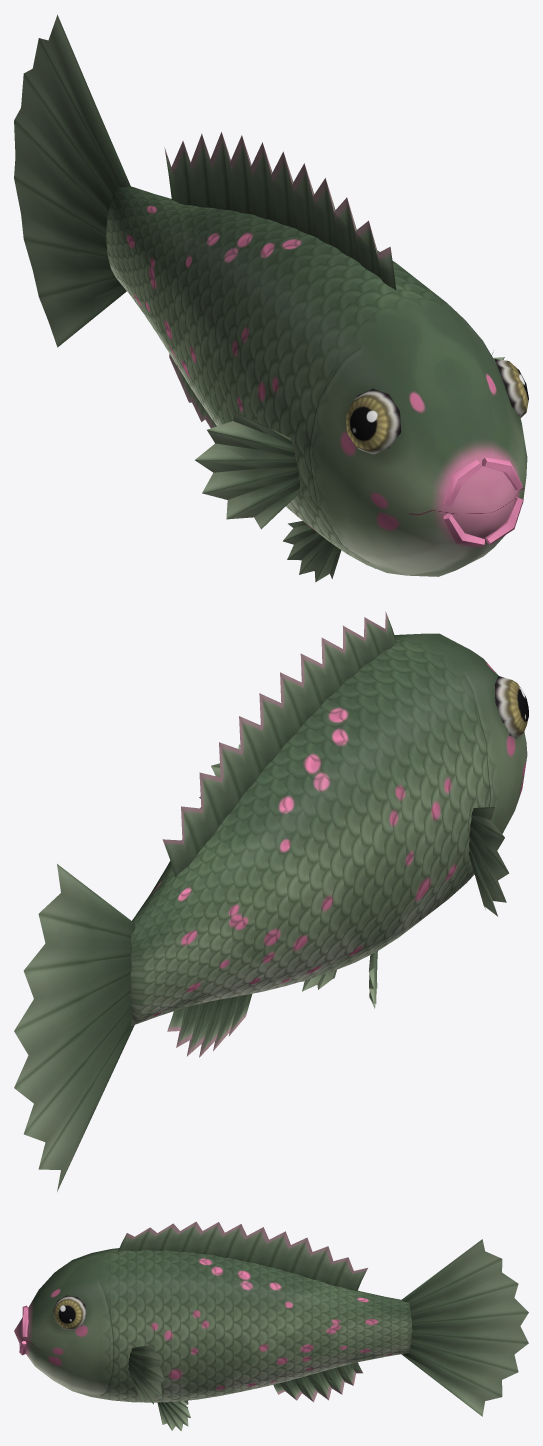
The model's file is thrift-wrasse.glb.
The picture shows the model from 3 angles, top to bottom: view 1: azimuth 30°, elevation 25°; view 2: azimuth 150°, elevation 25°; view 3: azimuth 270°, elevation 25°; orthographic projection. The views are drawn at different scales.
Visible parts, largest first — view 1: thrift-wrasse; view 2: thrift-wrasse; view 3: thrift-wrasse.
Boxes of the visible parts, box(x1,y1,x2,y2) form: thrift-wrasse: box(14, 14, 528, 582); thrift-wrasse: box(14, 611, 528, 1191); thrift-wrasse: box(14, 1221, 528, 1430).
Size of the model in its own units: 0.3765 by 0.435 by 1.
Materials: 1 (1 with a texture image).
